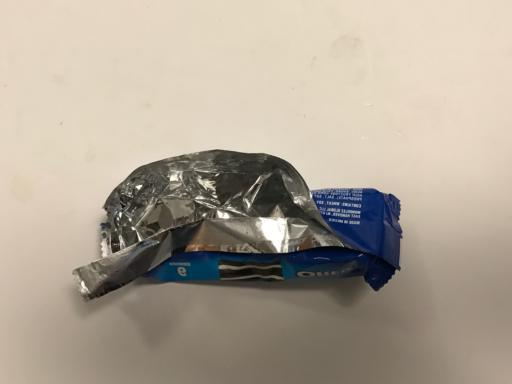trash: (71, 151, 404, 301)
